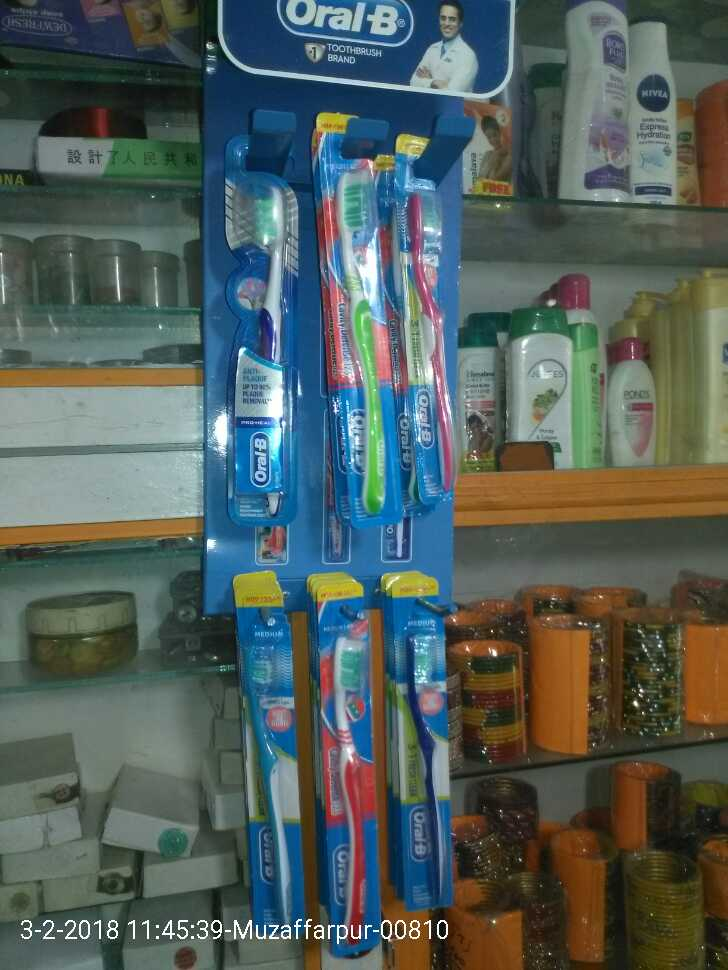oralb: (231, 569, 319, 912), (397, 566, 477, 915), (325, 150, 399, 518), (394, 146, 466, 513), (309, 604, 389, 923), (252, 170, 308, 523)
